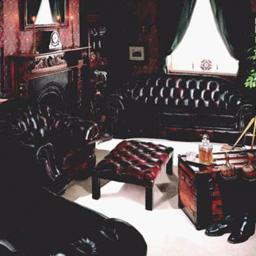Otro Obstaculo: (178, 149, 253, 241)
